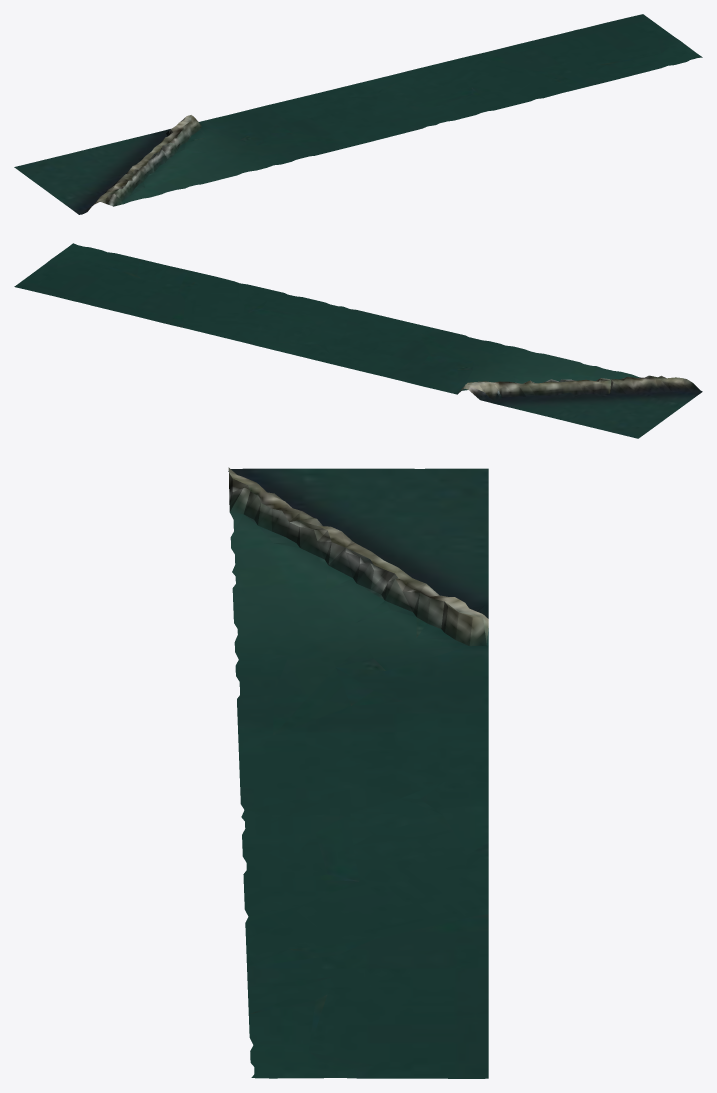
3 views of the same model, one above another, from view 1: azimuth 30°, elevation 25°; view 2: azimuth 150°, elevation 25°; view 3: azimuth 270°, elevation 25° (orthographic). The views are drawn at different scales.
Size of the model in its own units: 418 by 7.24 by 75.49.
1 material, 1 textured.
